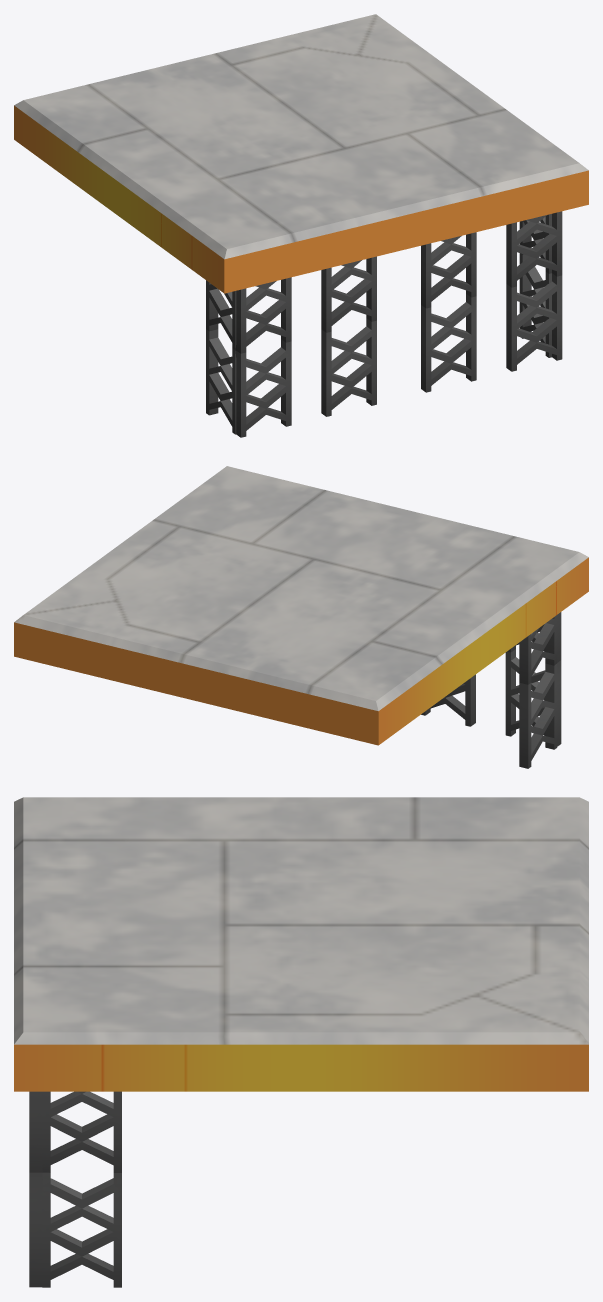
File: Ground_scaf_tile_lrg.fbx
3 renders of one model, top to bottom at view 1: azimuth 30°, elevation 25°; view 2: azimuth 150°, elevation 25°; view 3: azimuth 270°, elevation 25°, orthographic. The views are drawn at different scales.
Visible parts, largest first — view 1: Large_Grd_Tile, scaf_legs_lrg; view 2: Large_Grd_Tile, scaf_legs_lrg; view 3: Large_Grd_Tile, scaf_legs_lrg.
Boxes of the visible parts, box(x1,y1,x2,y2) form: Large_Grd_Tile: box(14, 14, 588, 293); scaf_legs_lrg: box(206, 211, 562, 437); Large_Grd_Tile: box(14, 466, 588, 745); scaf_legs_lrg: box(421, 612, 561, 768); Large_Grd_Tile: box(14, 797, 588, 1091); scaf_legs_lrg: box(29, 1091, 121, 1287).
Bounding box in the file's own units: 39.98 × 20.35 × 39.98.
